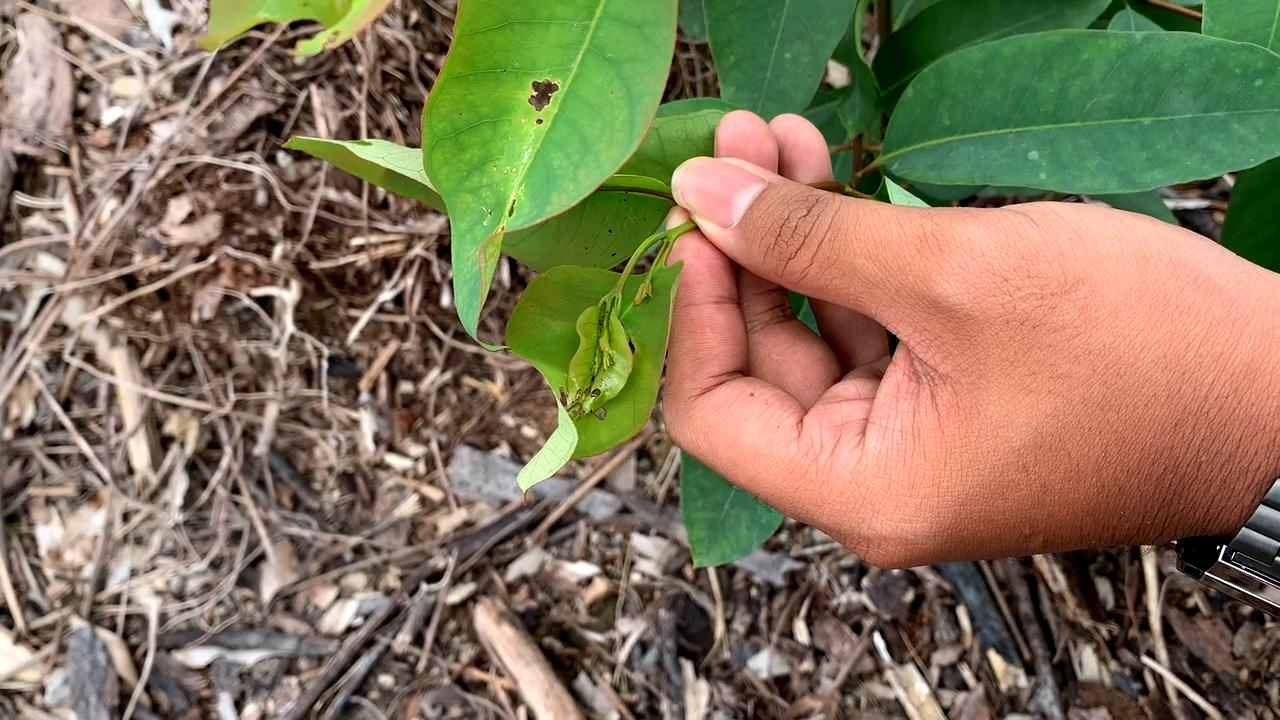Leaf Roller - Leaf: (549, 277, 651, 427)
